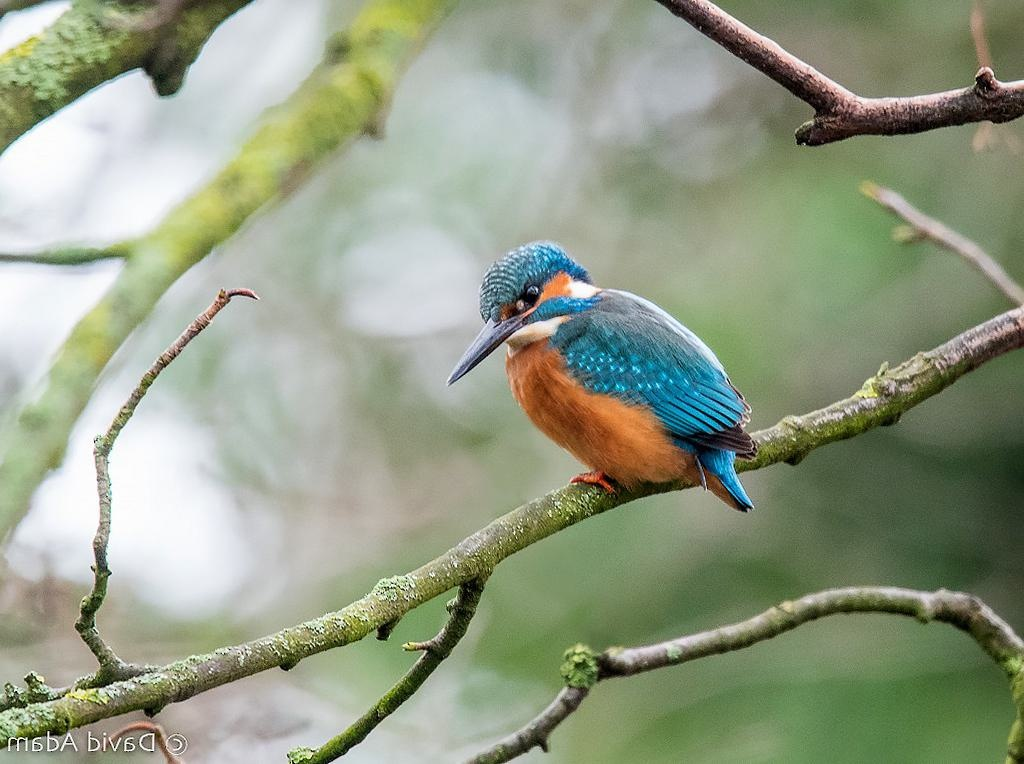kingfisher: (439, 217, 774, 511)
